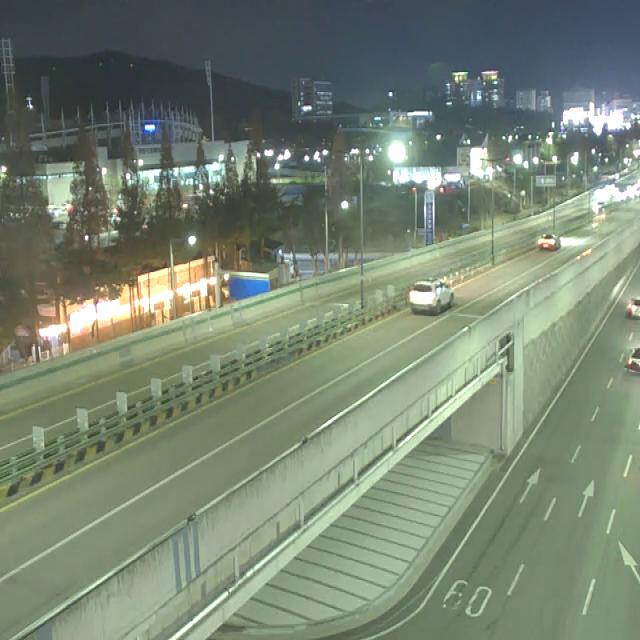Car: (408, 277, 454, 315), (625, 344, 640, 373), (538, 234, 561, 250), (627, 296, 640, 316)
